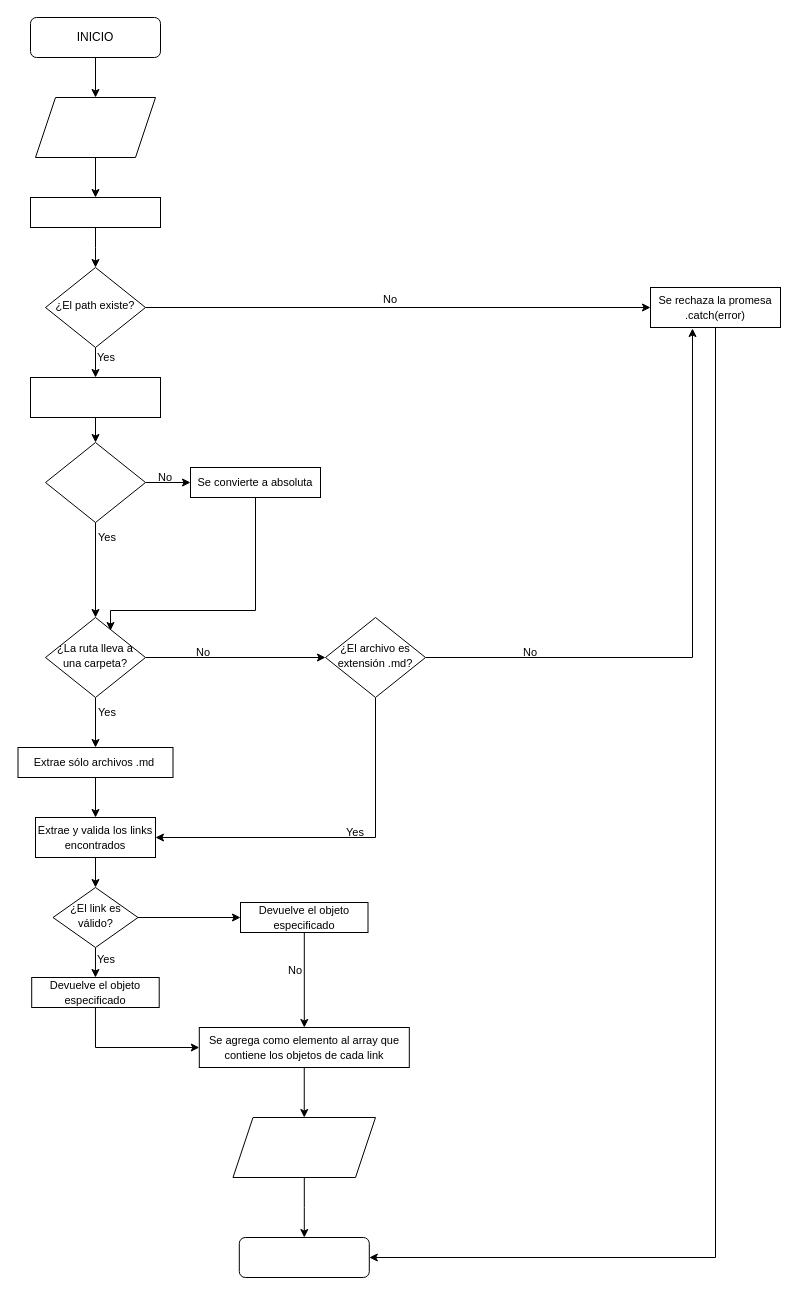
The diagram is 798 pixels wide and 1295 high, and some of its shapes have lost their labels. Here are the shapes that lost their labels. From the top down, the centre of each, then its label:
the point at 95,127: Se ejecuta función mdLinks
the point at 95,212: Verifica si el path existe
the point at 95,397: Verifica si la ruta es absoluta/relativa
the point at 95,482: ¿La ruta es absoluta?
the point at 304,1147: Resuelve la promesa y devuelve el array
the point at 303,1257: FIN
